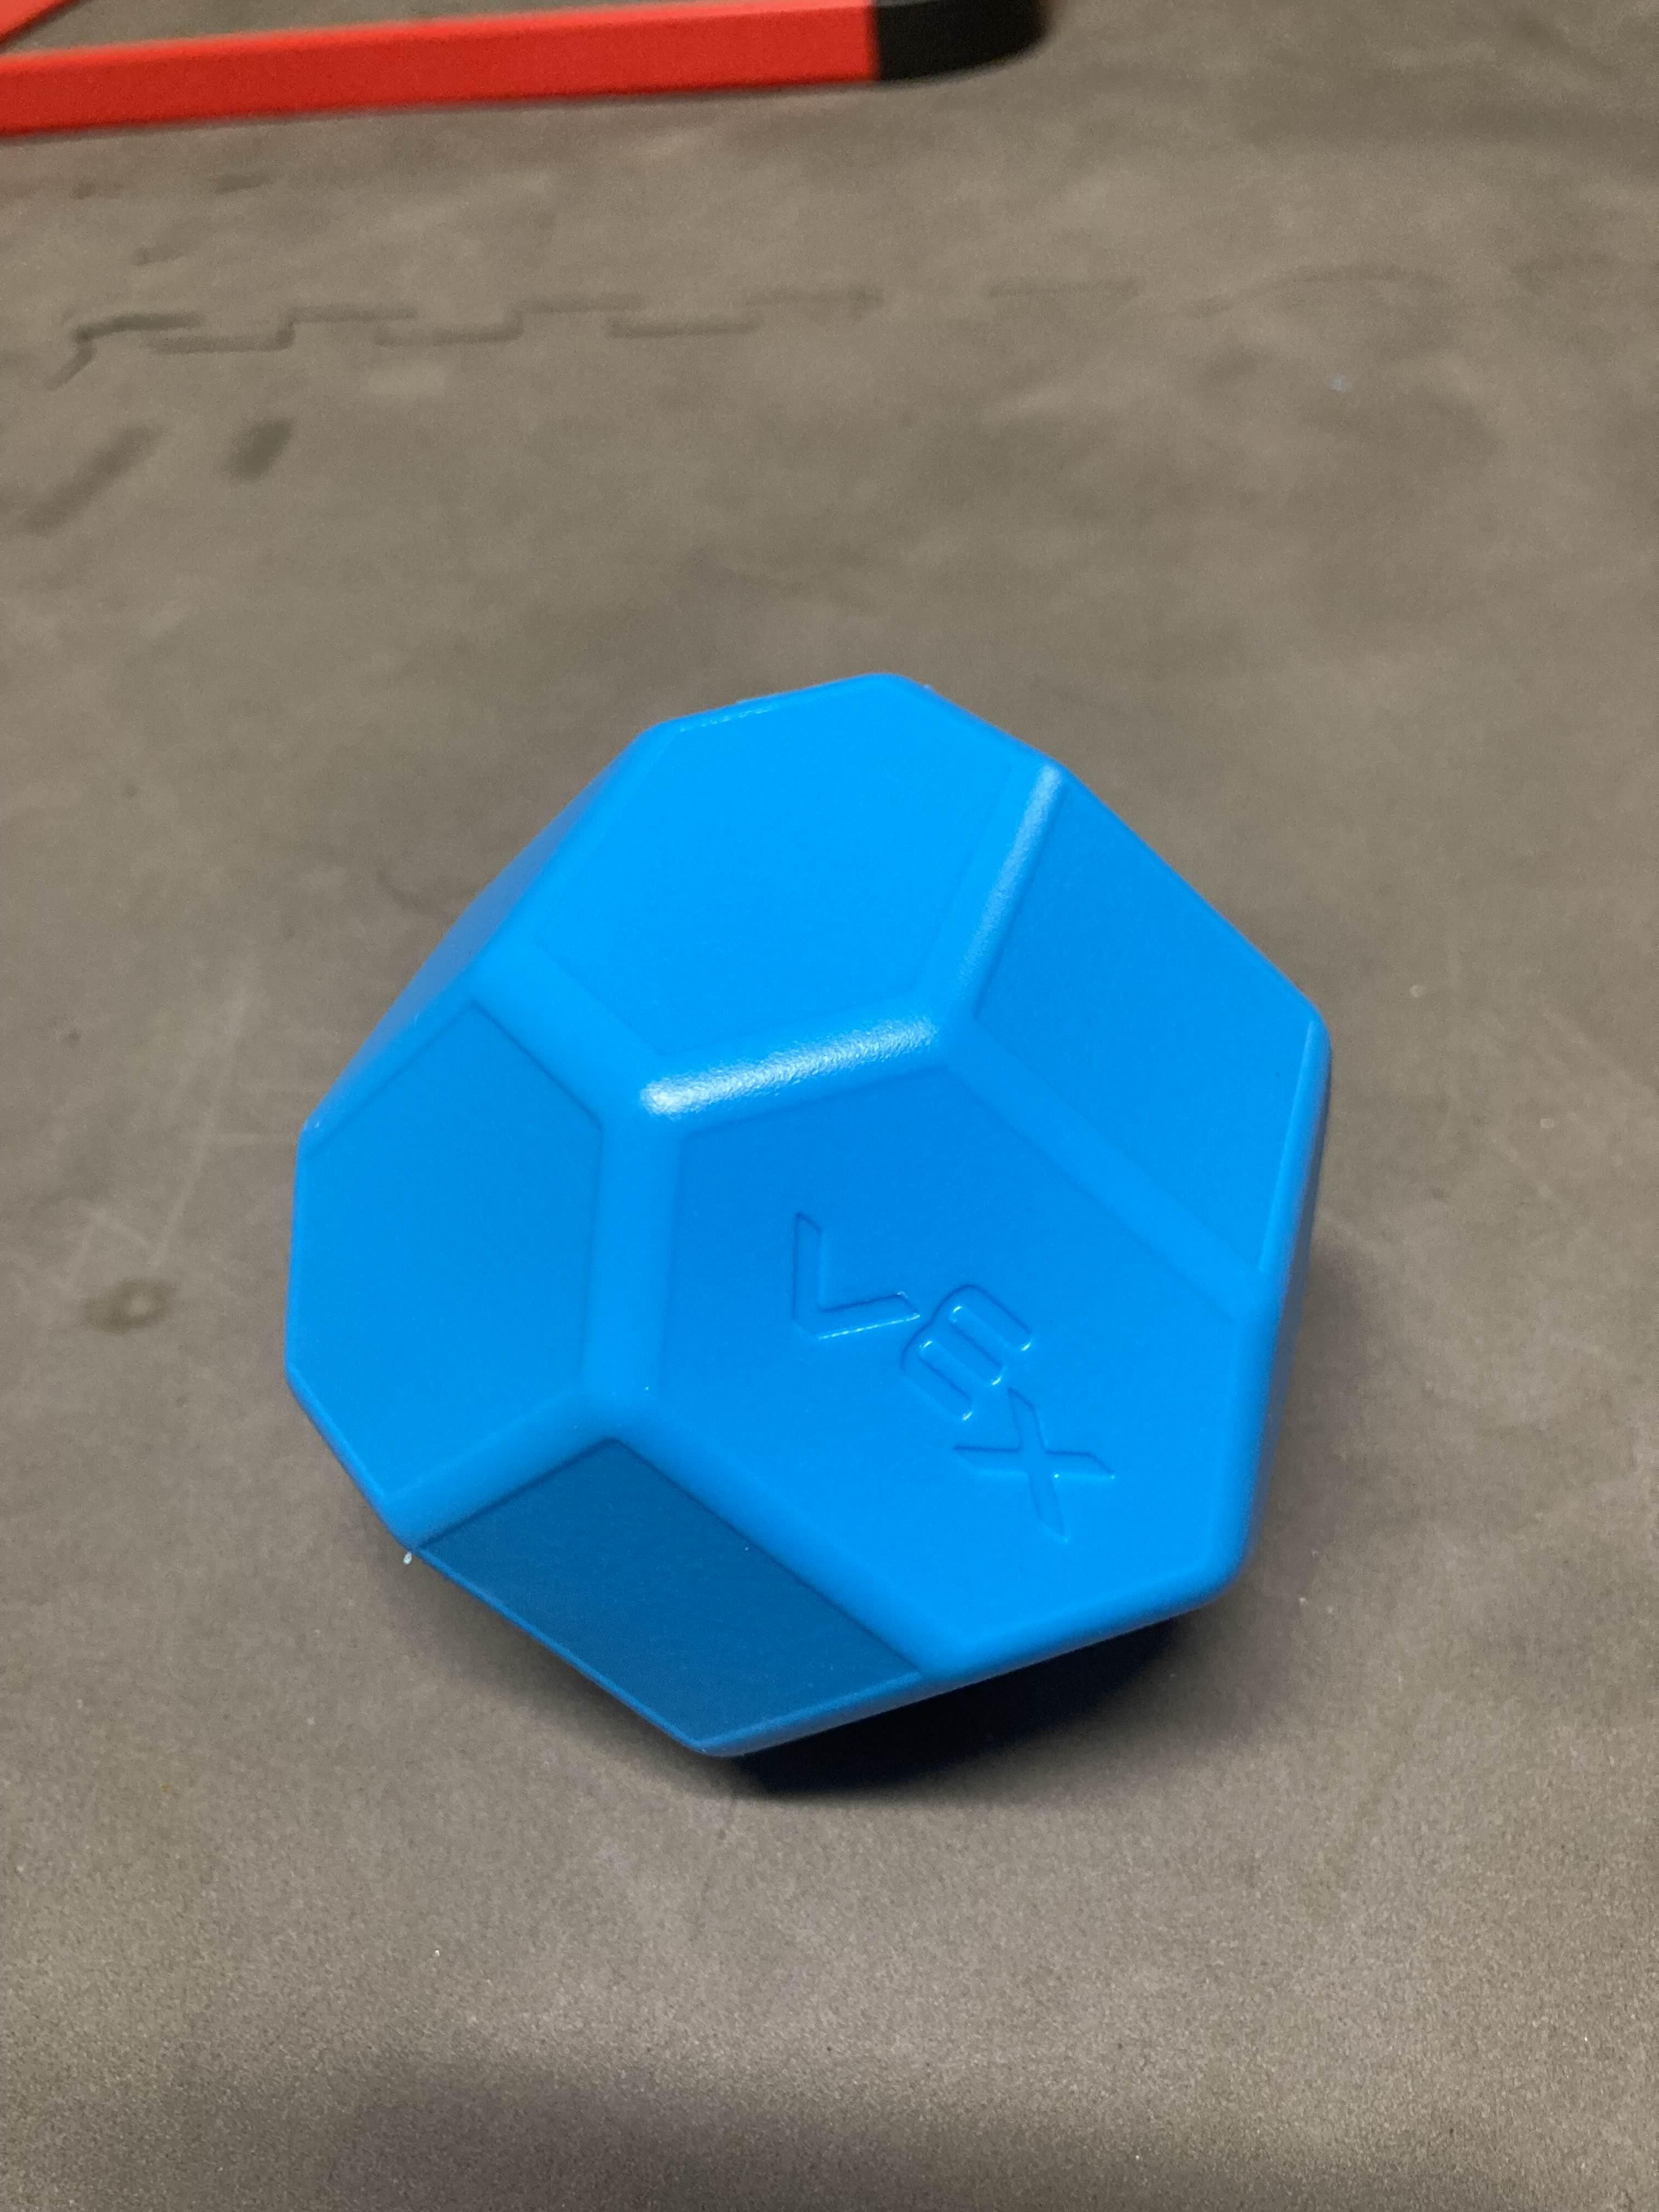Vex-Pieces-BLUE: (281, 672, 1333, 1775)
